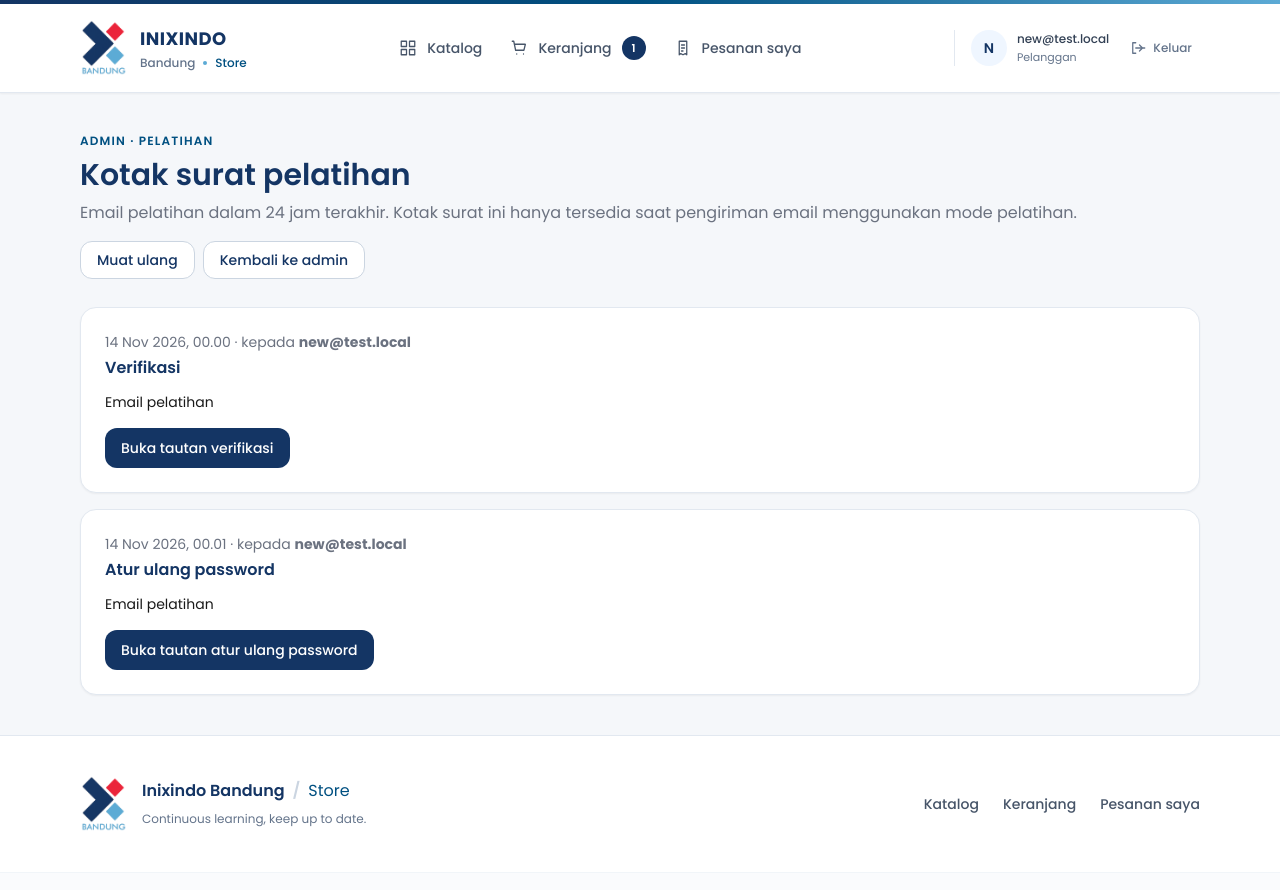
Test: training mailbox › removes previously loaded links when the mailbox is disabled
Expected: the link "Buka tautan verifikasi" is shown, [105,428,290,468]
Expected: the link "Buka tautan atur ulang password" is shown, [105,630,374,670]
Step 1. Click the button "Muat ulang" → x=137, y=260, box [80,241,195,279]
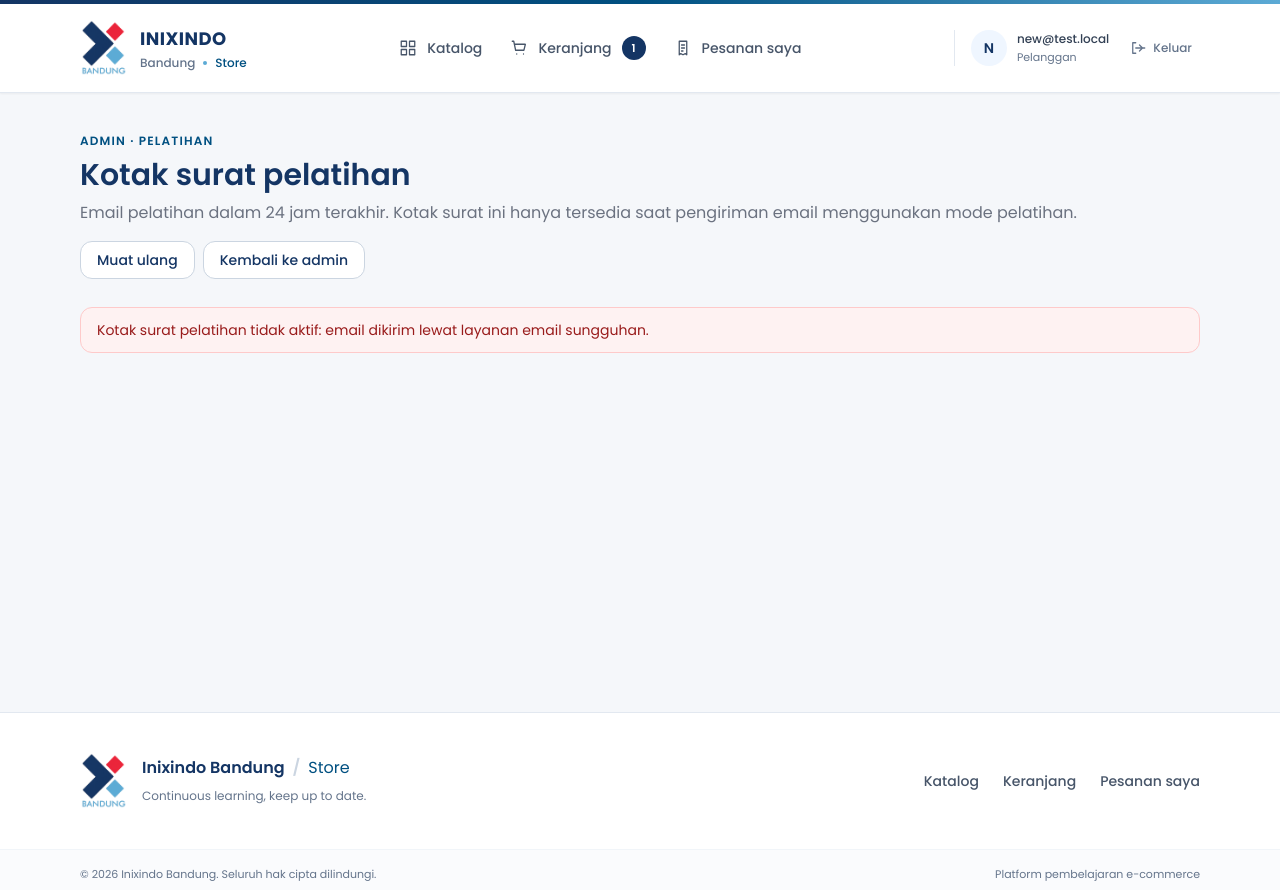
Now the link "Buka tautan verifikasi" is gone
Now the message shows "tidak aktif", box [97,320,649,340]
